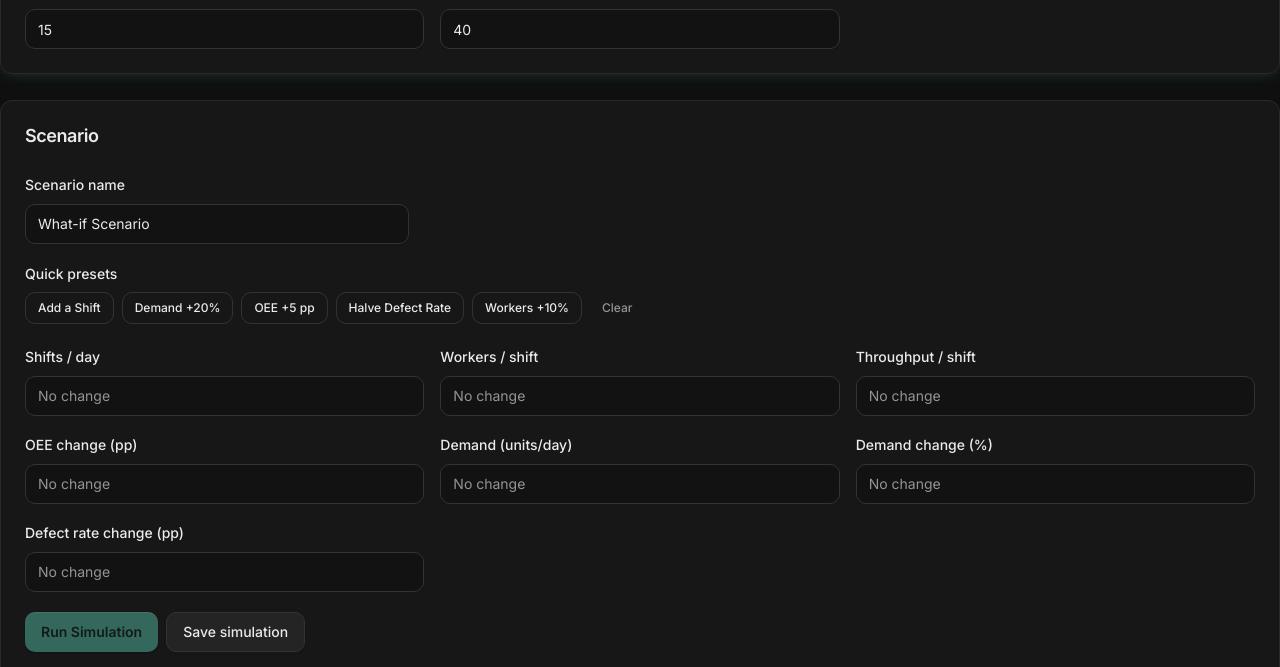
Test: Simulation › shows the run error from the server
(page scrolled)
Click the button "OEE +5 pp".
click(284, 308)  # box [241,292,328,324]
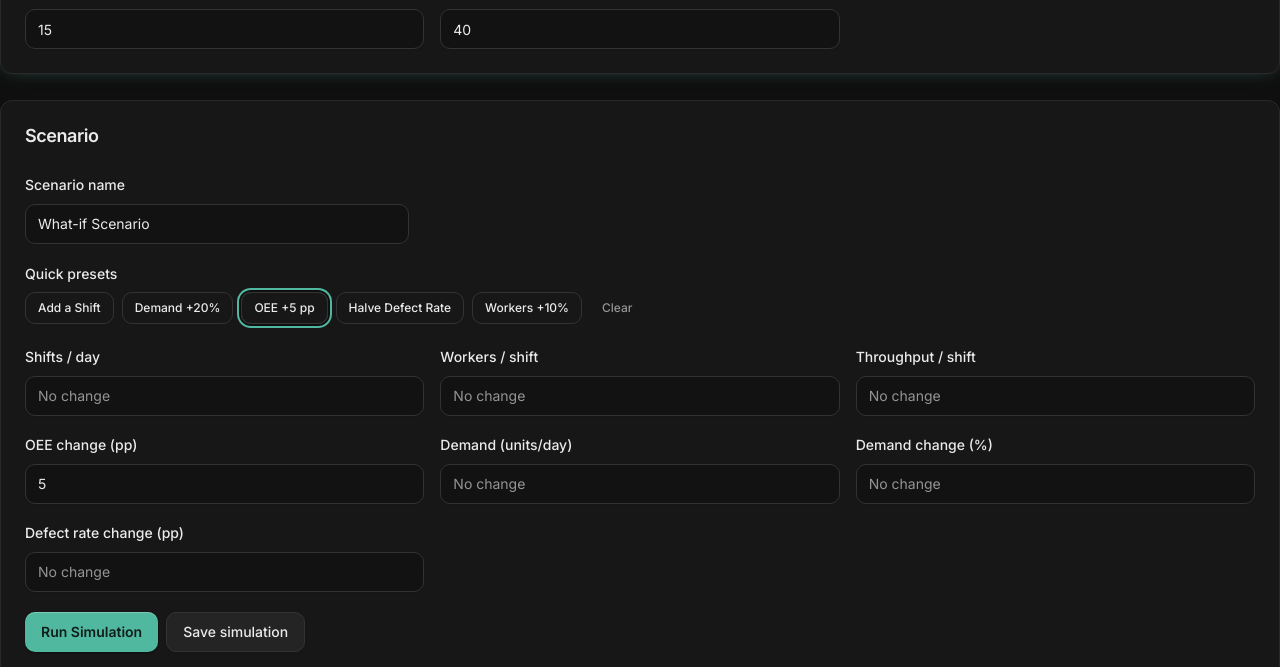
Click the button "Run Simulation".
click(92, 632)  # box [25,612,158,652]
(page scrolled)
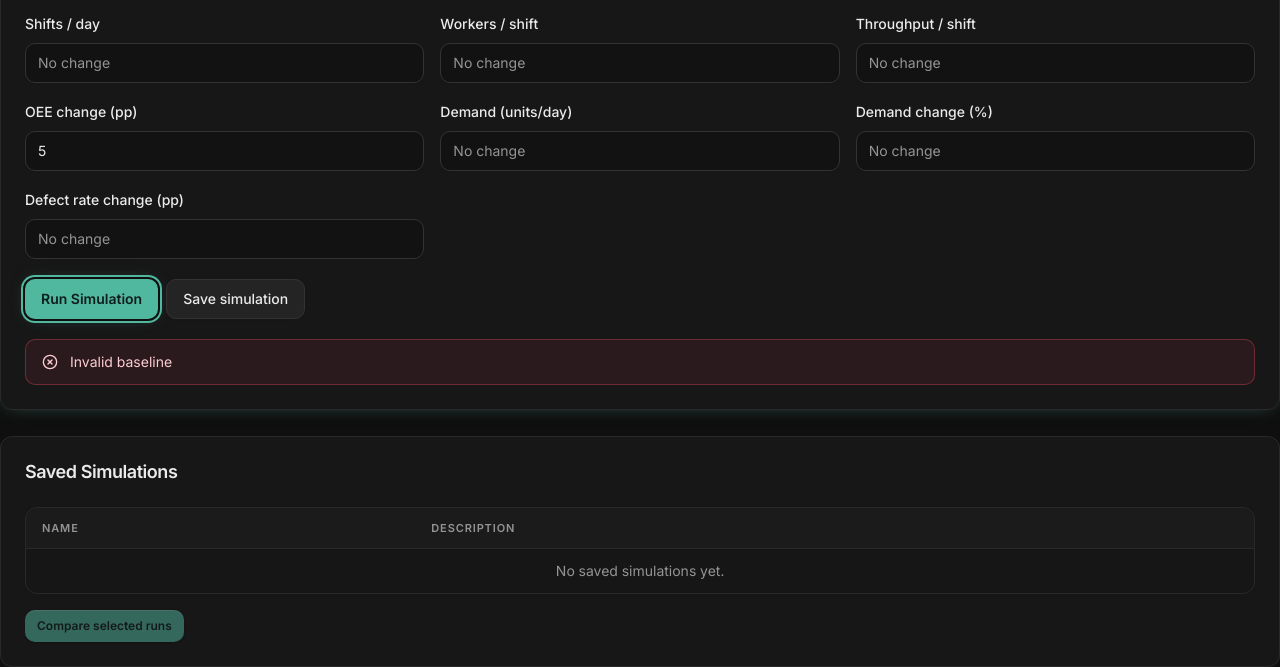
Check: the text "Invalid baseline" is shown, box [70,352,172,372]
